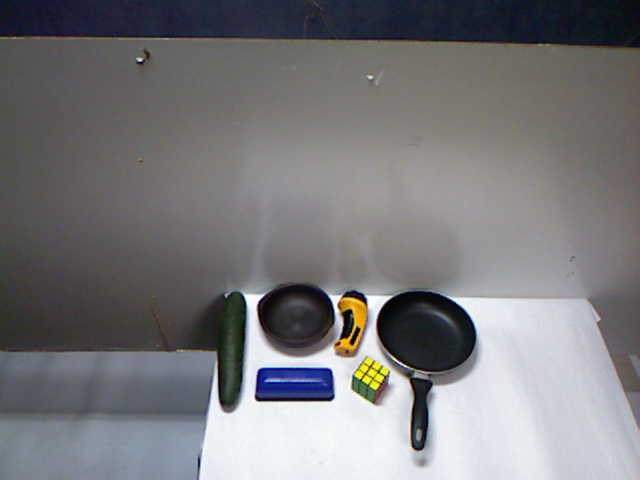cera: (290, 230, 352, 343)
colador: (349, 288, 514, 429)
ketchup: (213, 313, 256, 378)
mostaza: (267, 334, 306, 396)
platano: (255, 347, 351, 432)
yogurt: (244, 231, 302, 343)
